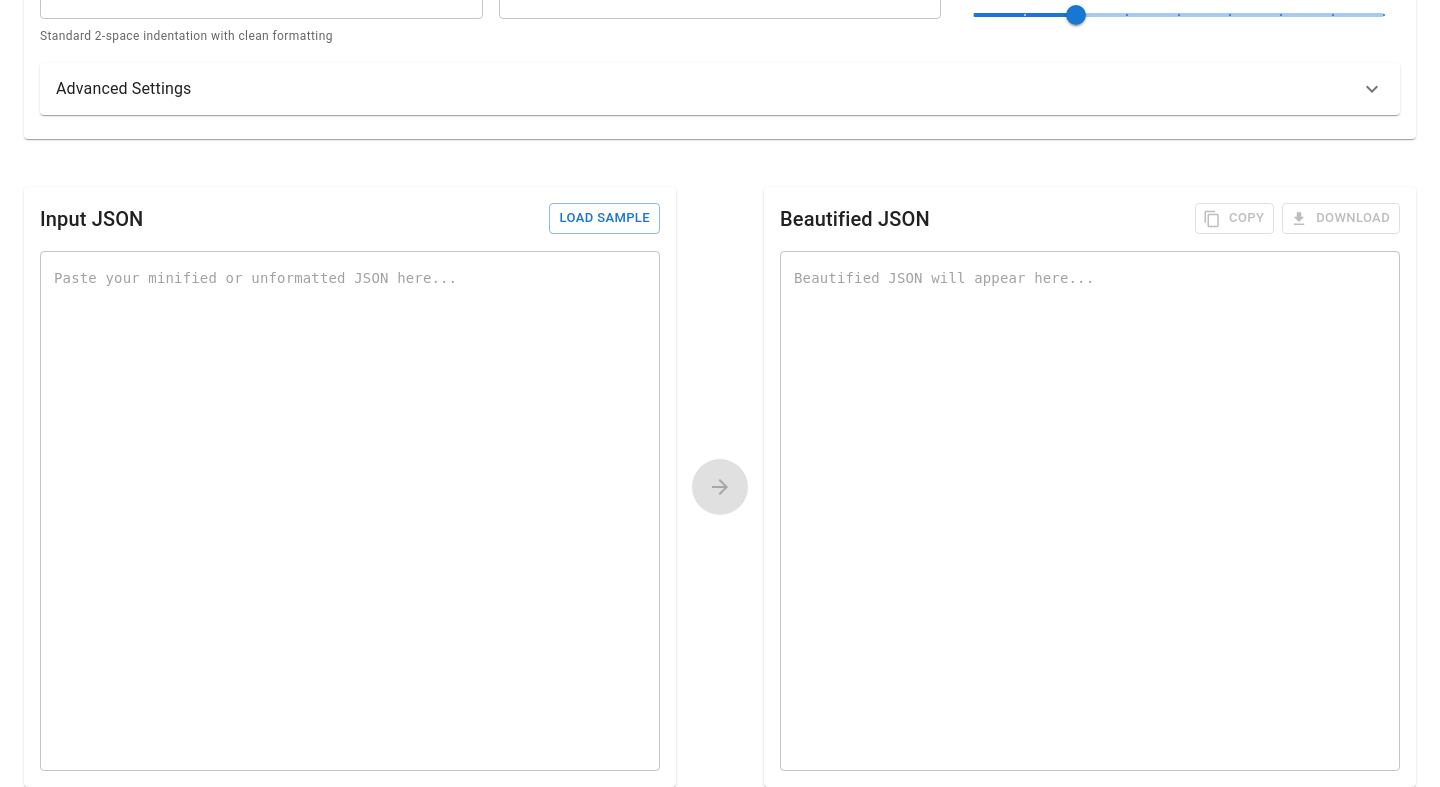
JsonBeautifierTool › should show metadata after successful beautification
(page scrolled)
Expected: the 5th button is shown, [692, 459, 748, 515]
Clear the text box with placeholder "Paste your minified or unformatted JSON here..." at (350, 511), box [54, 267, 646, 754]
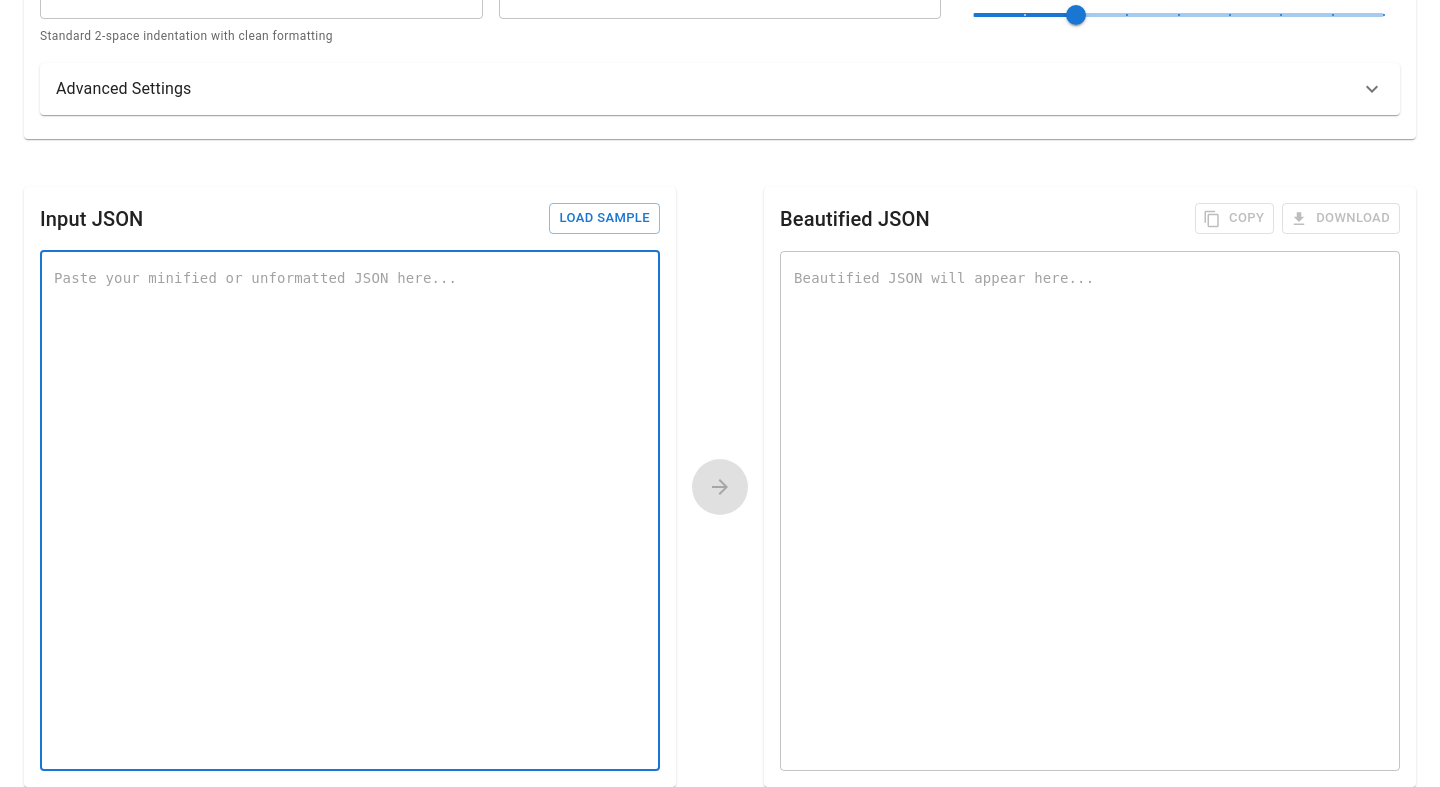
Type keys "{\"name\":\"test\",\"nested\":{\"key\":\"value\"},\"array\":[1,2,3]}"
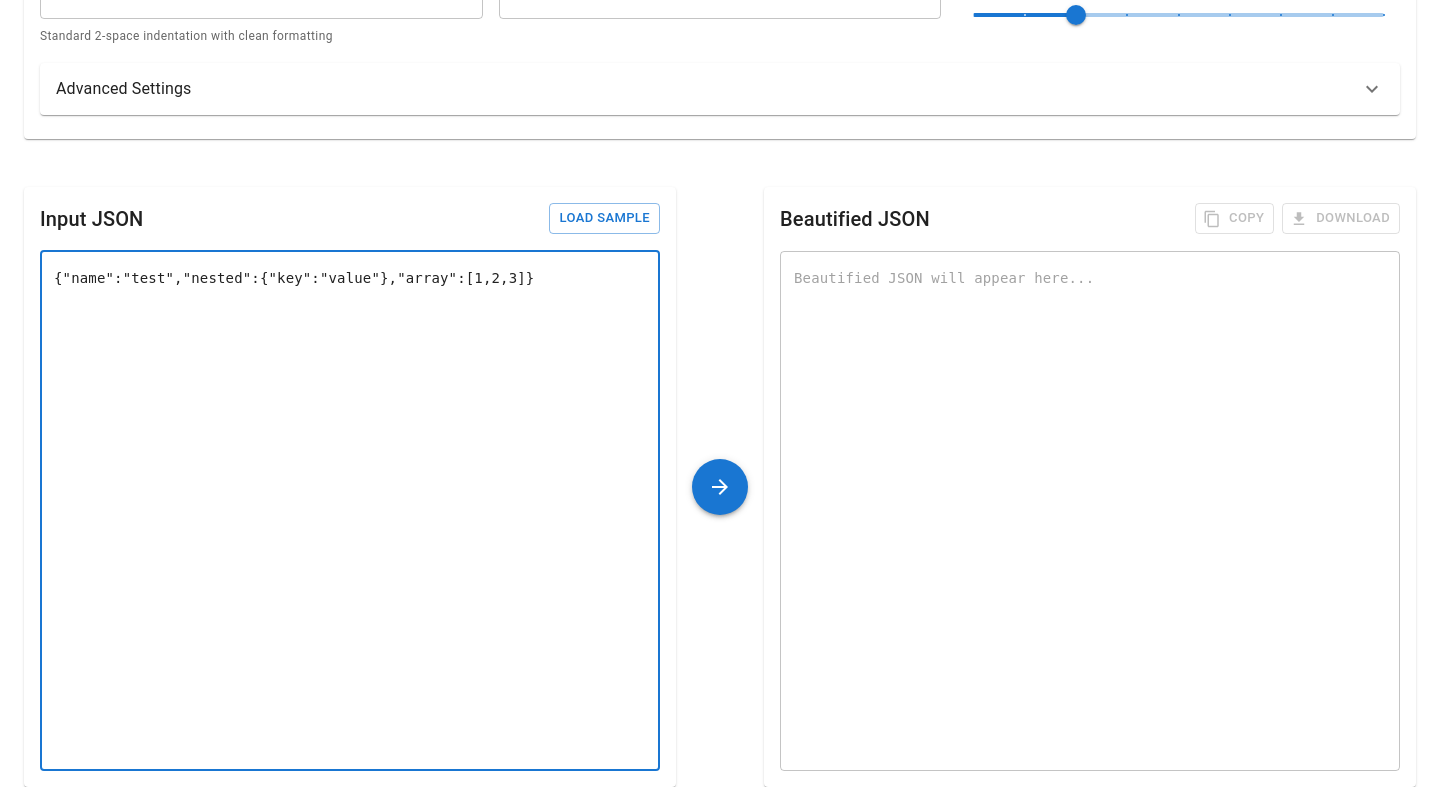
Click the 5th button.
click(720, 487)  # box [692, 459, 748, 515]
(page scrolled)
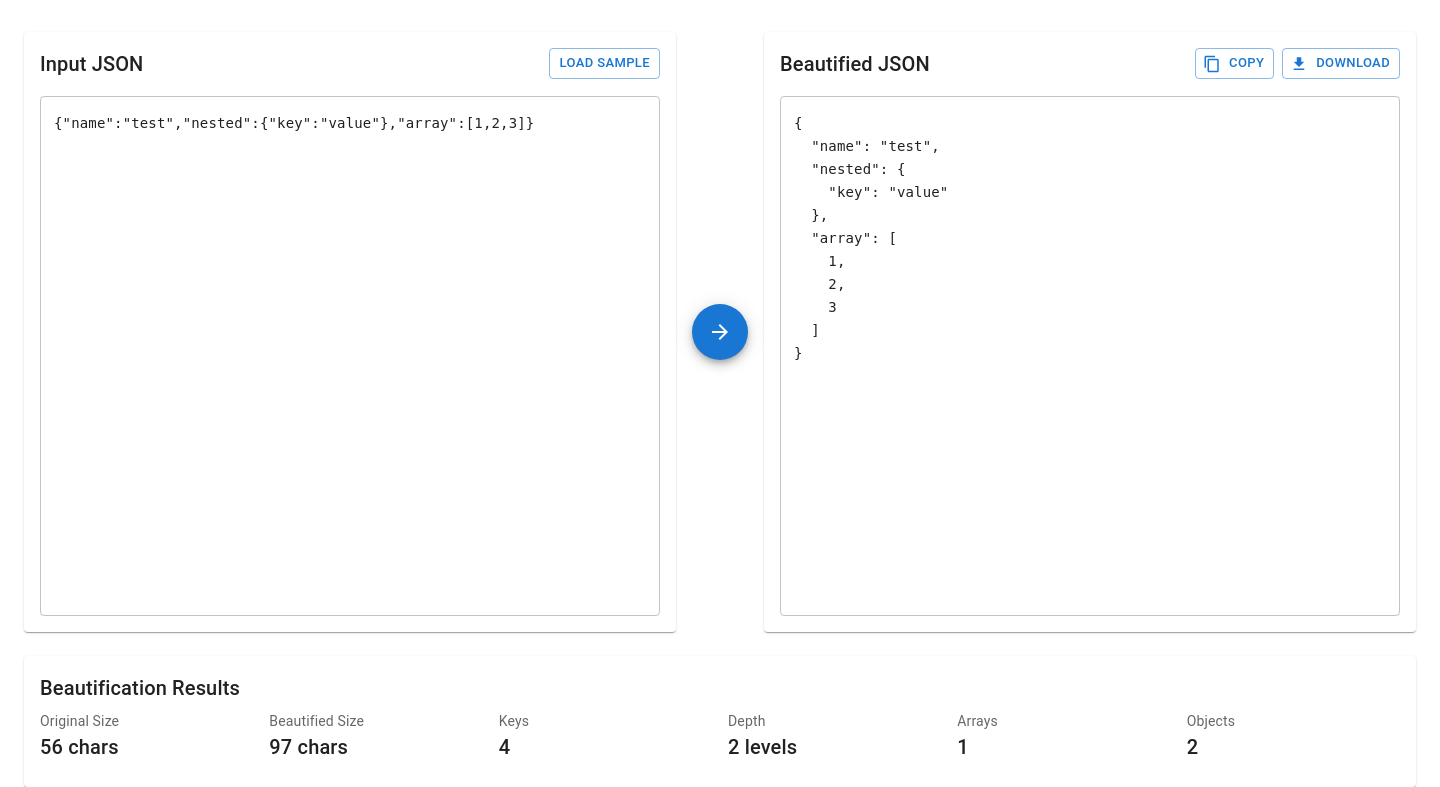
Result: the heading "Beautification Results" is shown at [40, 676, 240, 700]
Result: the text "Original Size" is shown at [40, 713, 119, 729]
Result: the text "Beautified Size" is shown at [269, 713, 364, 729]
